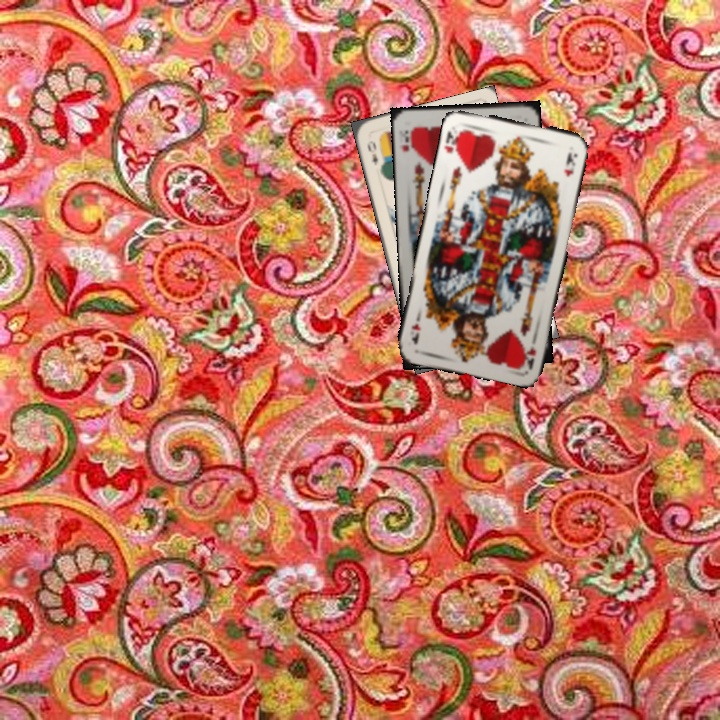EO: (363, 136, 380, 168)
HK: (519, 331, 540, 372), (441, 127, 464, 158), (397, 123, 416, 155)
